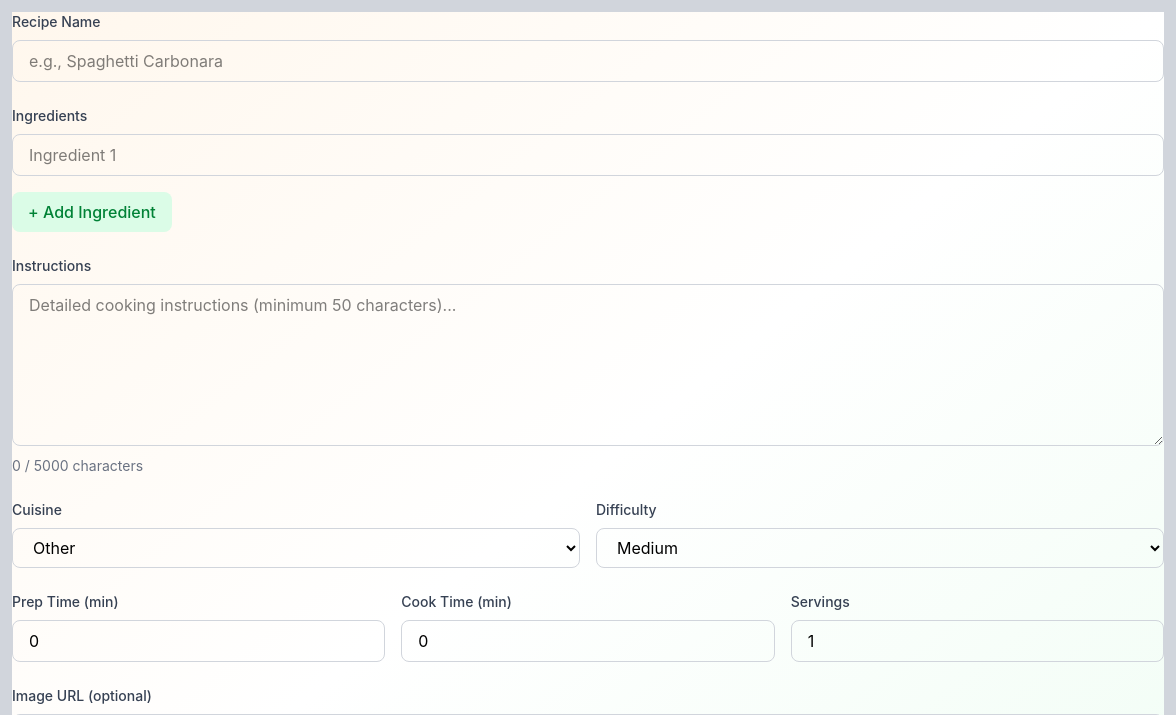
Test: RecipeForm › adds ingredient field when Add Ingredient is clicked
Expected: the number of fields with placeholder "Ingredient 1" is 1, [12, 134, 1164, 176]
Click the button "+ Add Ingredient": point(92, 212) [12, 192, 172, 232]
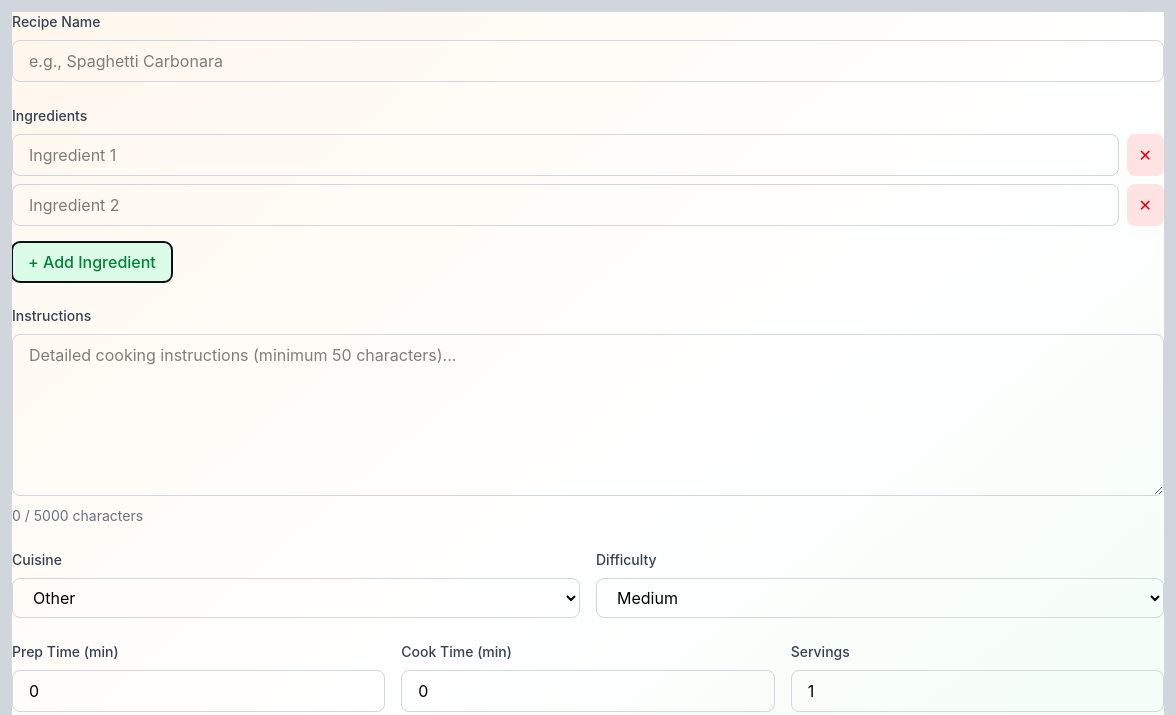
Expected: the number of fields with placeholder "Ingredient 1" is 2, [12, 134, 1119, 176]; [12, 184, 1119, 226]
